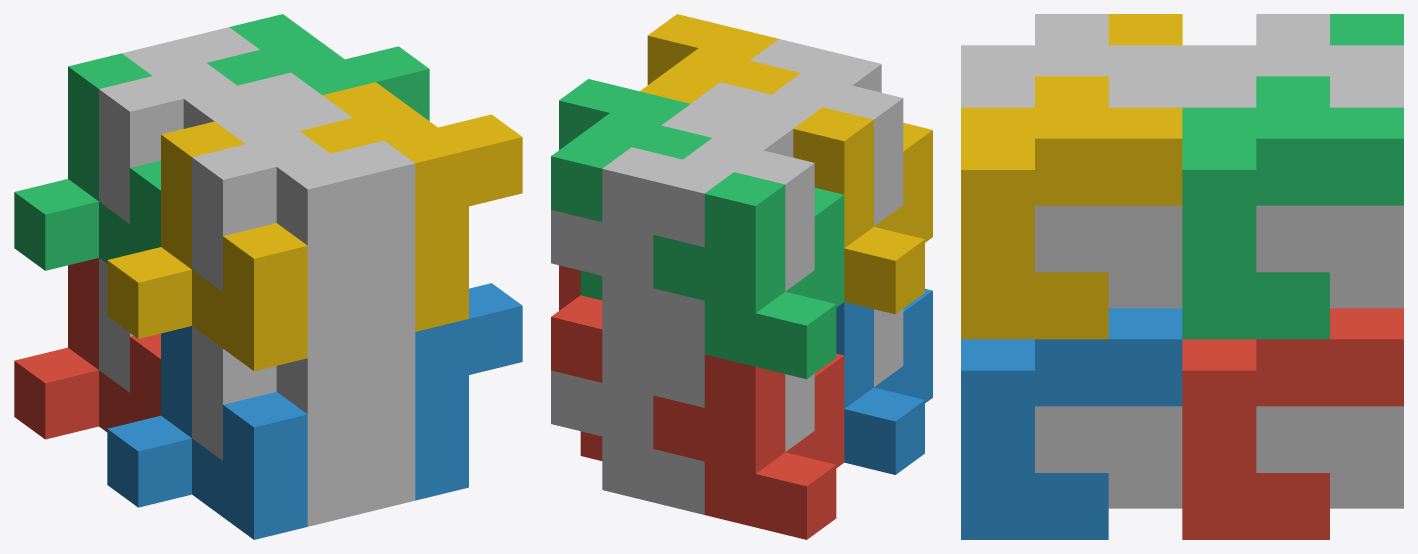
Rendered from tiling.obj.
The picture shows the model from 3 angles, left to right: view 1: azimuth 30°, elevation 25°; view 2: azimuth 150°, elevation 25°; view 3: azimuth 270°, elevation 25°; orthographic projection. The views are drawn at different scales.
Visible parts, largest first — view 1: copy_2_domain_4, copy_1_domain_4, copy_1_domain_2, copy_2_domain_8, copy_2_domain_2, copy_1_domain_3, copy_2_domain_3, copy_1_domain_1, copy_2_domain_6, copy_2_domain_7, copy_1_domain_8, copy_1_domain_6 (+2 smaller); view 2: copy_1_domain_3, copy_1_domain_1, copy_1_domain_4, copy_1_domain_7, copy_2_domain_3, copy_1_domain_5, copy_1_domain_2, copy_2_domain_7, copy_2_domain_4, copy_2_domain_8, copy_2_domain_5, copy_2_domain_1 (+2 smaller); view 3: copy_2_domain_7, copy_2_domain_8, copy_2_domain_5, copy_2_domain_6, copy_1_domain_8, copy_1_domain_7, copy_1_domain_6, copy_1_domain_5, copy_2_domain_3, copy_2_domain_4, copy_1_domain_4, copy_1_domain_3.
Part boxes in pixels (x1,y1,x2,y2): copy_2_domain_4: [192, 108, 415, 357]; copy_1_domain_4: [107, 121, 307, 371]; copy_1_domain_2: [107, 326, 307, 539]; copy_2_domain_8: [300, 82, 522, 331]; copy_2_domain_2: [192, 326, 415, 526]; copy_1_domain_3: [14, 53, 160, 270]; copy_2_domain_3: [99, 40, 321, 223]; copy_1_domain_1: [14, 258, 160, 439]; copy_2_domain_6: [415, 283, 522, 500]; copy_2_domain_7: [207, 14, 429, 120]; copy_1_domain_8: [269, 95, 415, 344]; copy_1_domain_6: [361, 388, 415, 513]; copy_1_domain_3: [653, 172, 844, 379]; copy_1_domain_1: [653, 353, 844, 539]; copy_1_domain_4: [793, 107, 932, 314]; copy_1_domain_7: [551, 147, 704, 354]; copy_2_domain_3: [653, 104, 814, 291]; copy_1_domain_5: [551, 329, 704, 514]; copy_1_domain_2: [836, 288, 932, 474]; copy_2_domain_7: [551, 79, 711, 300]; copy_2_domain_4: [742, 39, 903, 226]; copy_2_domain_8: [640, 14, 800, 103]; copy_2_domain_5: [551, 265, 602, 460]; copy_2_domain_1: [653, 342, 814, 451]; copy_2_domain_7: [1182, 76, 1403, 339]; copy_2_domain_8: [961, 76, 1182, 339]; copy_2_domain_5: [1182, 308, 1403, 539]; copy_2_domain_6: [961, 308, 1182, 539]; copy_1_domain_8: [1035, 76, 1182, 308]; copy_1_domain_7: [1256, 76, 1403, 308]; copy_1_domain_6: [1035, 406, 1182, 508]; copy_1_domain_5: [1256, 406, 1403, 508]; copy_2_domain_3: [1182, 14, 1403, 107]; copy_2_domain_4: [961, 14, 1182, 107]; copy_1_domain_4: [1108, 14, 1182, 45]; copy_1_domain_3: [1330, 14, 1403, 45].
Size of the model in its own units: 6 by 6 by 6.
